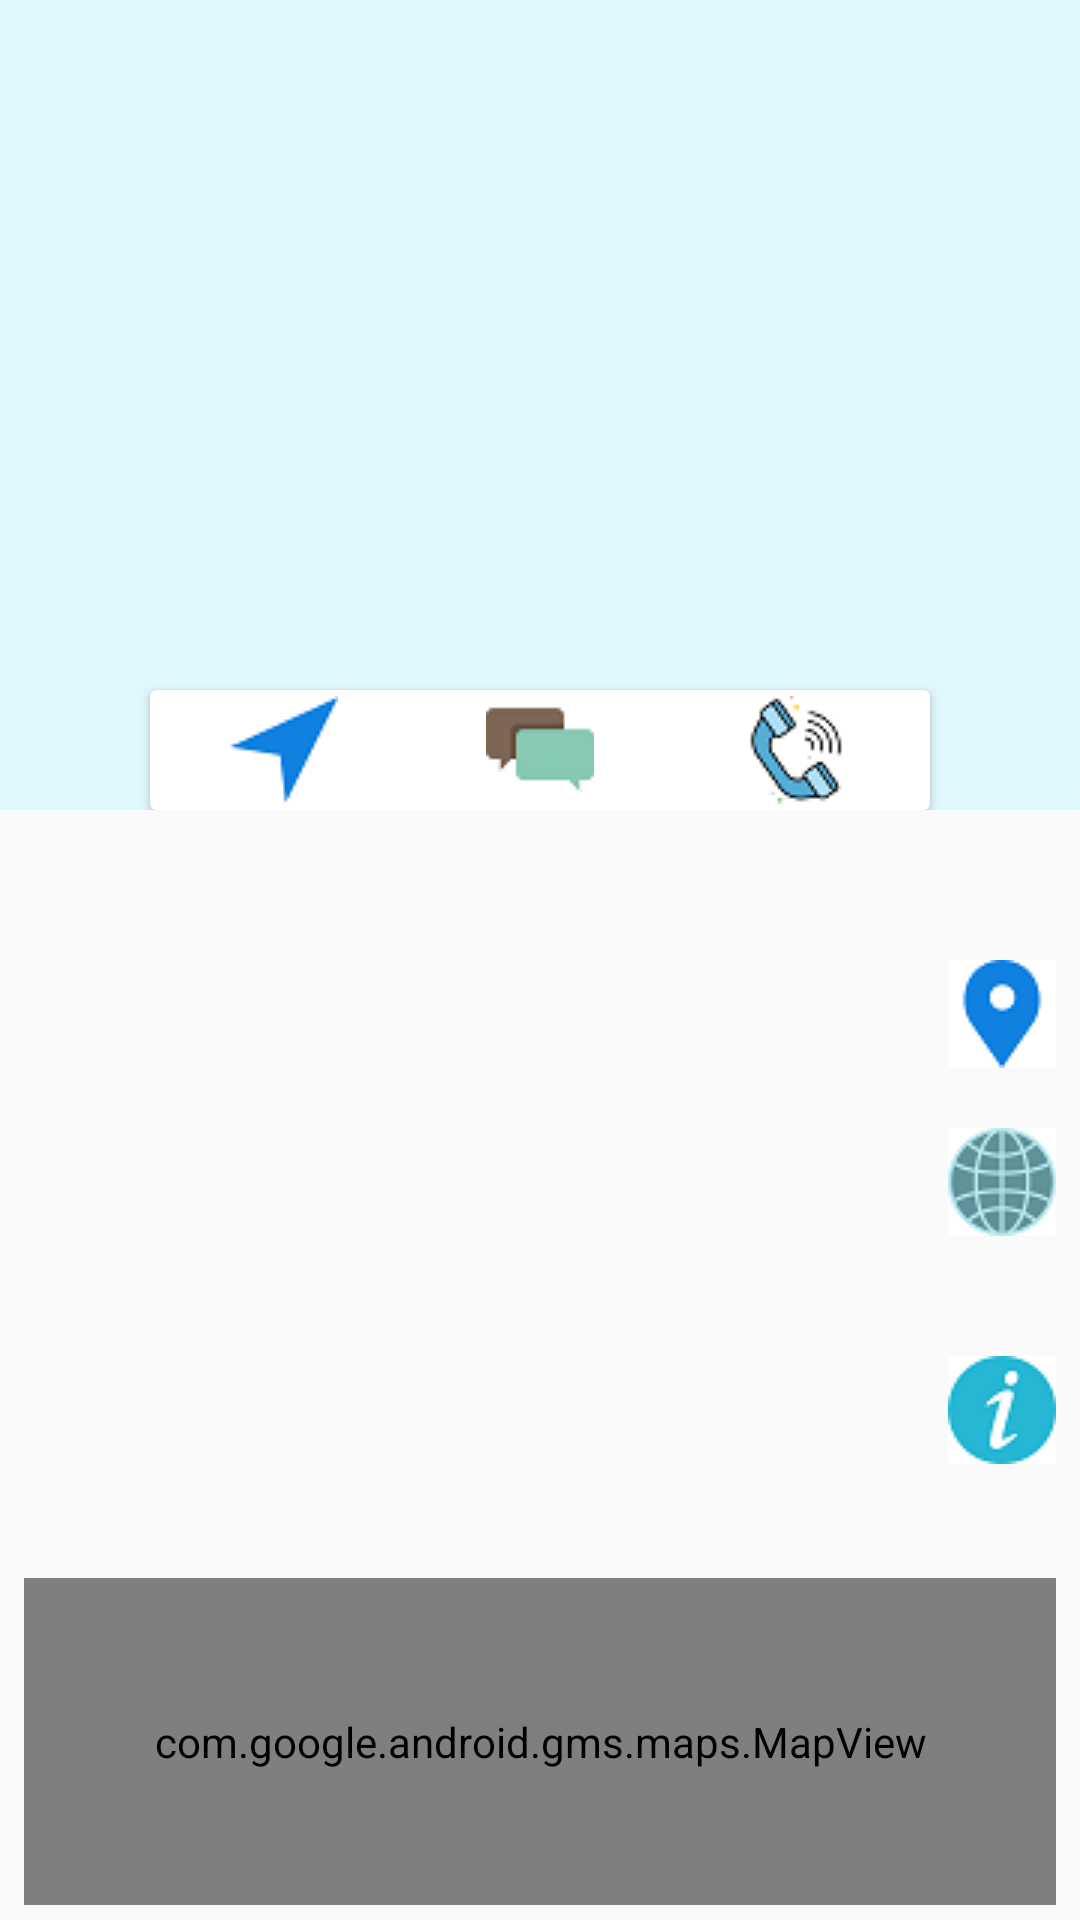

Icon bounding boxes for this 1080 x 1920 phone screenshot, format (x1, y1, x2, y2):
navigation: (230, 696, 338, 802)
phone: (750, 696, 842, 804)
